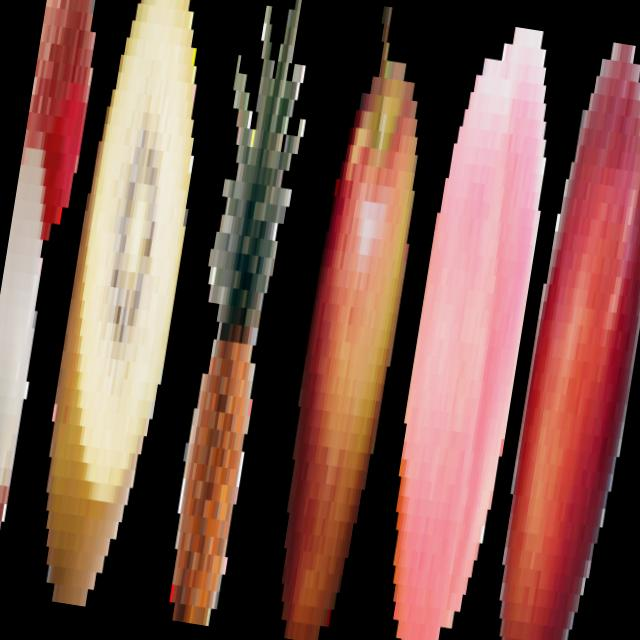apple: (261, 3, 445, 640), (482, 37, 640, 640)
kiwifruit: (23, 0, 230, 614)
peach: (367, 19, 571, 640)
pineapples: (152, 0, 322, 628)
